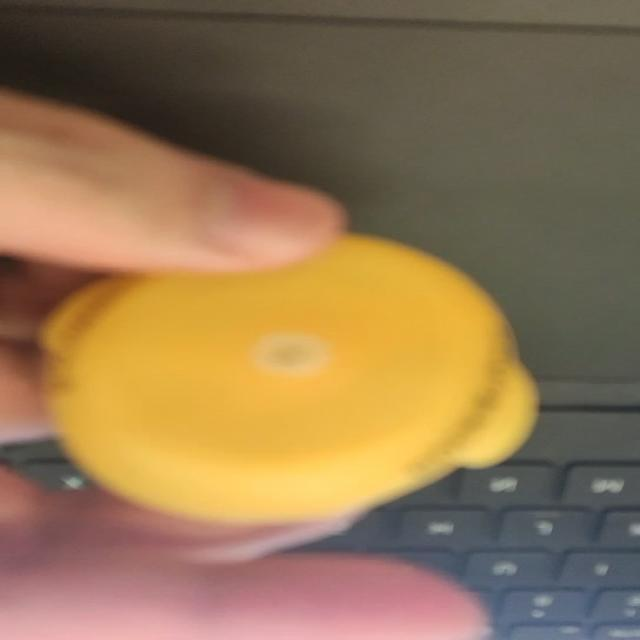rubber-duck: (43, 234, 535, 519)
